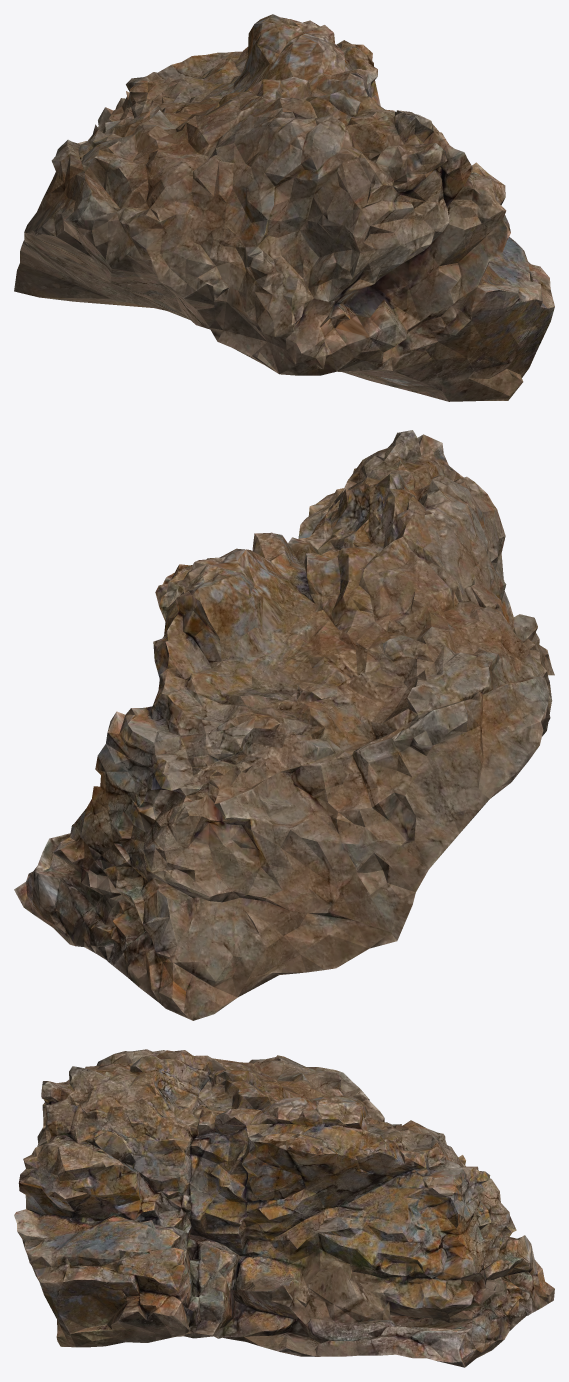
File: boulder_b.glb
The picture shows the model from 3 angles, top to bottom: view 1: azimuth 30°, elevation 25°; view 2: azimuth 150°, elevation 25°; view 3: azimuth 270°, elevation 25°; orthographic projection. The views are drawn at different scales.
Parts seen in each view (by area): view 1: rock_PROXY_5m_002; view 2: rock_PROXY_5m_002; view 3: rock_PROXY_5m_002.
Part boxes in pixels (x1,y1,x2,y2): rock_PROXY_5m_002: [14, 14, 554, 401]; rock_PROXY_5m_002: [14, 430, 554, 1020]; rock_PROXY_5m_002: [14, 1049, 554, 1367].
Size of the model in its own units: 1.28 by 0.9992 by 1.83.
1 material, 1 textured.
